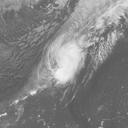cyclone: (45, 33, 92, 83)
